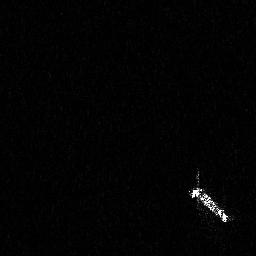ship: (189, 170, 234, 225)
